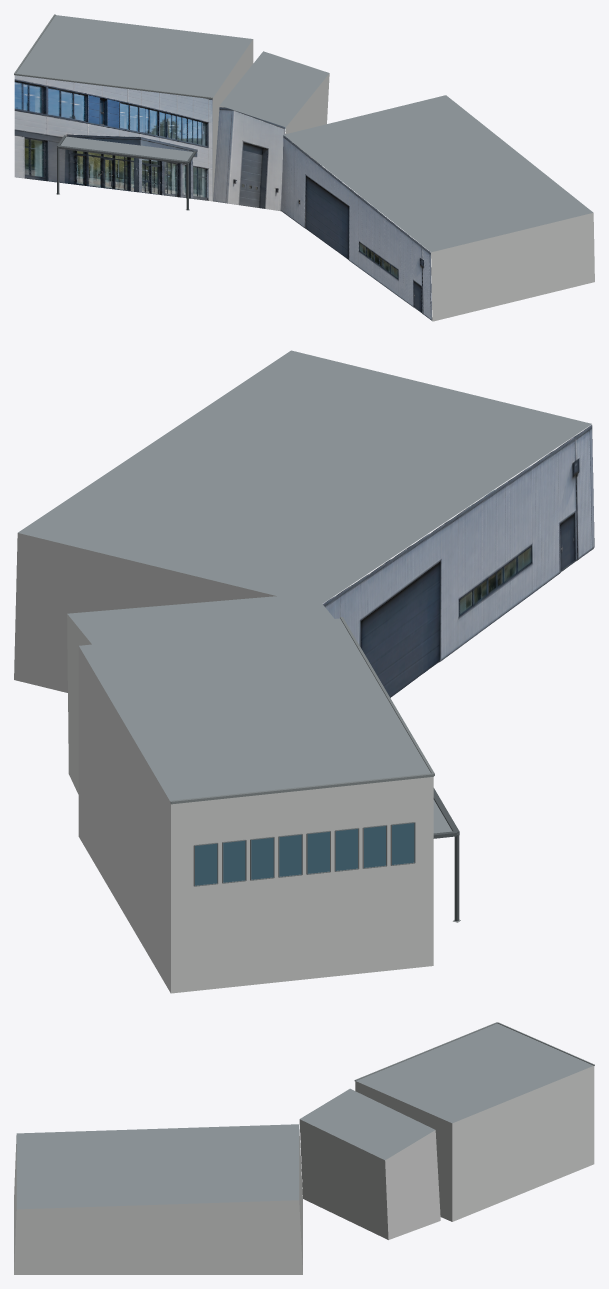
The model's file is training_buildings.glb.
The picture shows the model from 3 angles, top to bottom: view 1: azimuth 30°, elevation 25°; view 2: azimuth 150°, elevation 25°; view 3: azimuth 270°, elevation 25°; orthographic projection. The views are drawn at different scales.
Visible parts, largest first — view 1: training_buildings; view 2: training_buildings; view 3: training_buildings.
Boxes of the visible parts, x1,y1,x2,y2 form: training_buildings: (14, 14, 594, 321); training_buildings: (14, 350, 594, 993); training_buildings: (14, 1022, 594, 1274).
Size of the model in its own units: 36.35 by 10.97 by 58.16.
Materials: 7 (1 with a texture image).
